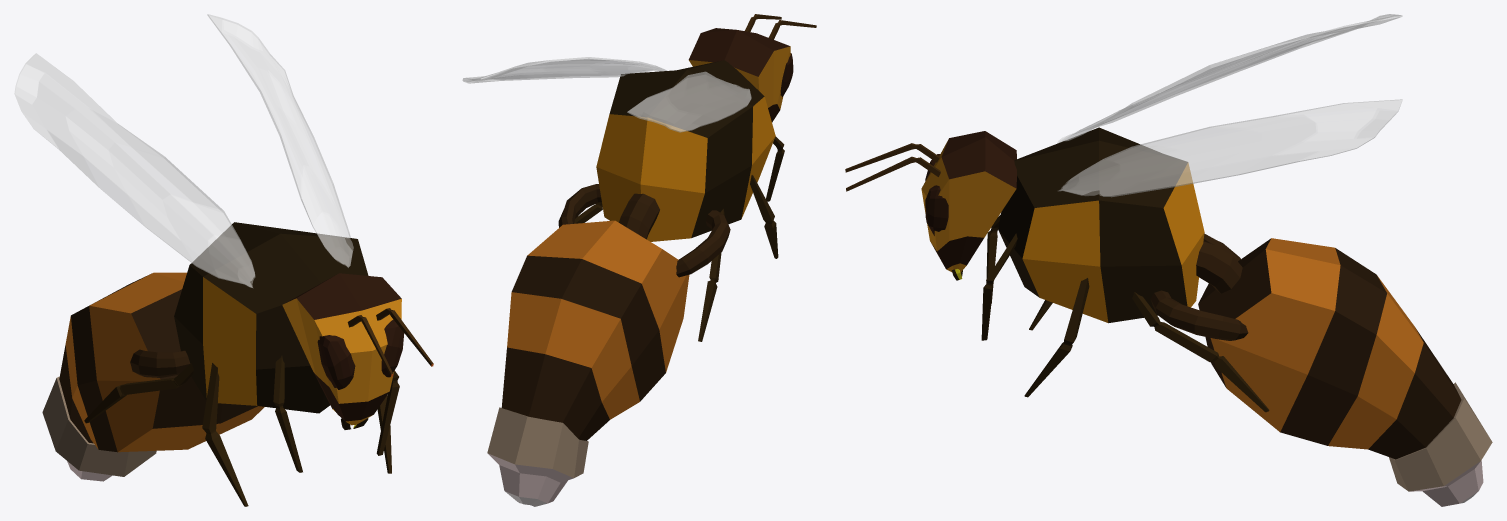
The model's file is InimigoVespa.fbx.
The picture shows the model from 3 angles, left to right: view 1: azimuth 30°, elevation 25°; view 2: azimuth 150°, elevation 25°; view 3: azimuth 270°, elevation 25°; orthographic projection. The views are drawn at different scales.
Visible parts, largest first — view 1: Inimigo, AsasInimigo; view 2: Inimigo, AsasInimigo; view 3: Inimigo, AsasInimigo.
Part boxes in pixels (x1,y1,x2,y2): Inimigo: (42,222,433,506); AsasInimigo: (14,14,353,288); Inimigo: (487,14,816,506); AsasInimigo: (462,57,751,132); Inimigo: (845,127,1492,506); AsasInimigo: (1057,14,1402,197).
Bounding box in the file's own units: 77.21 × 136 × 178.
